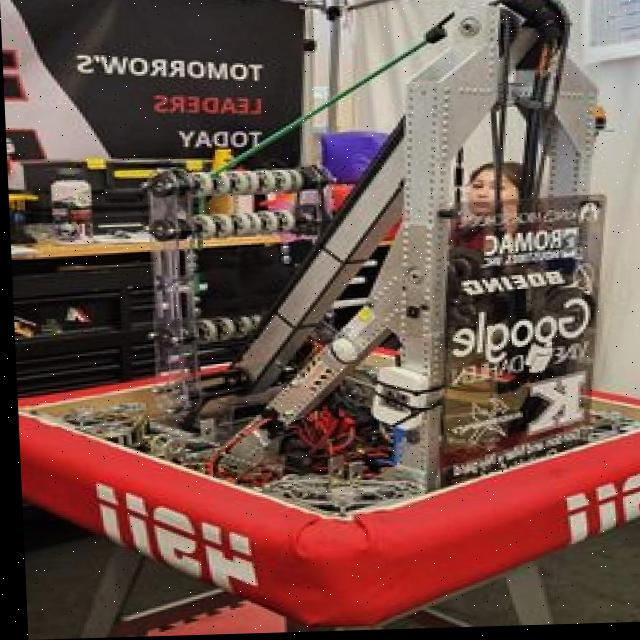robot: (2, 0, 640, 640)
